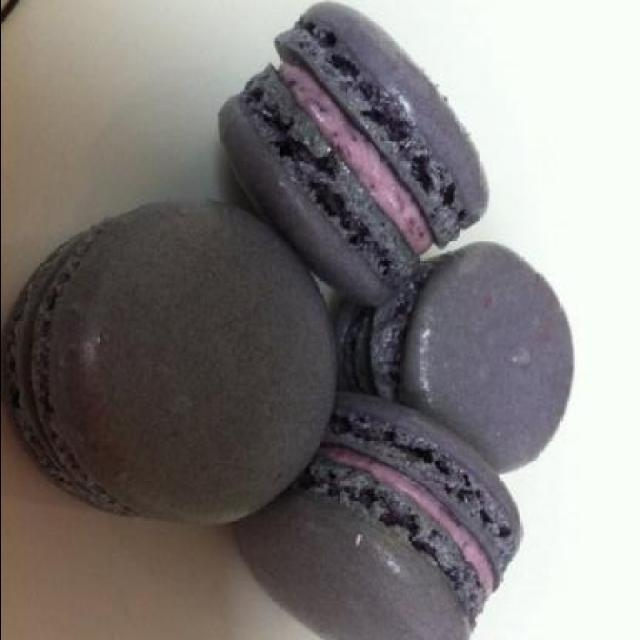Macaron: (2, 7, 576, 639)
